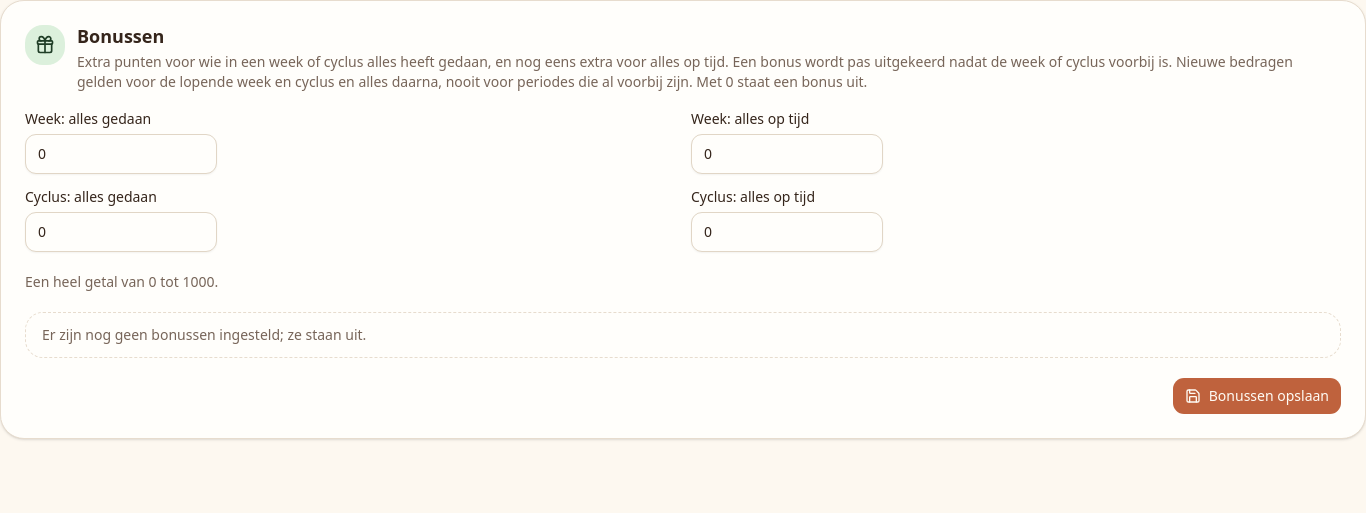
Test: BonusSection › says so when someone else changed the amounts in the meantime
Click the button "Bonussen opslaan".
click(1257, 396)  # box [1173,378,1341,414]
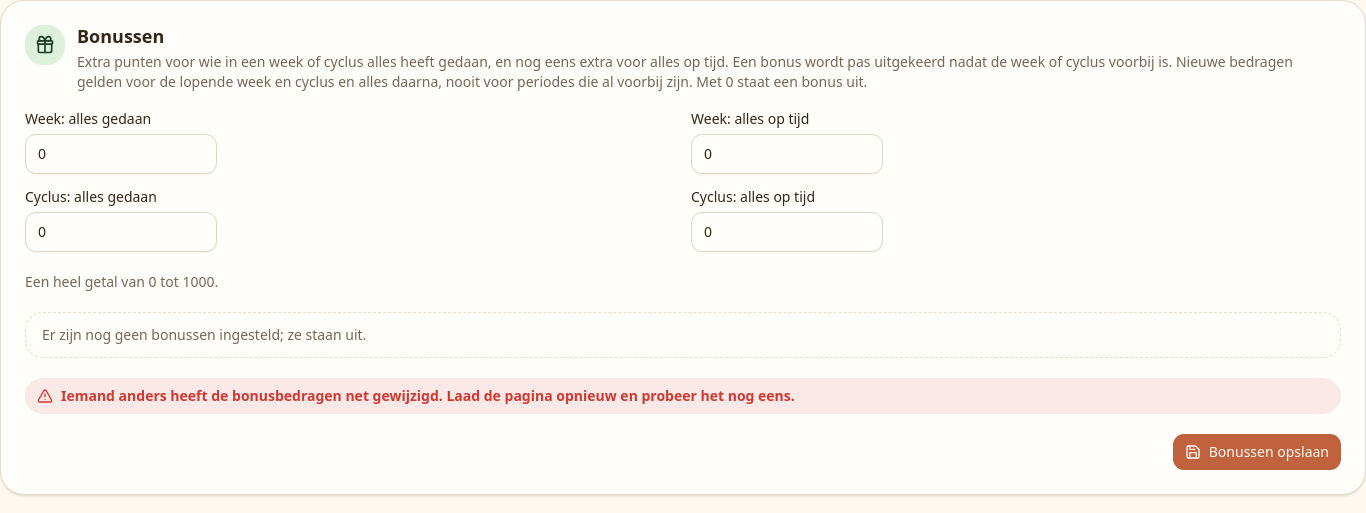
Expected: the message shows "Iemand anders heeft de bonusbedragen net gewijzigd", [61,386,795,404]
